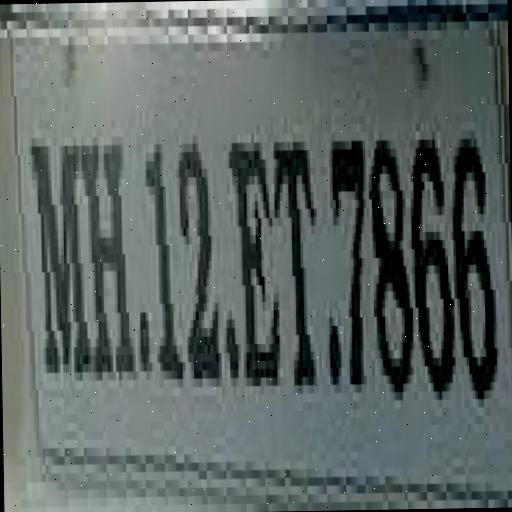number plate: (15, 37, 512, 474)
